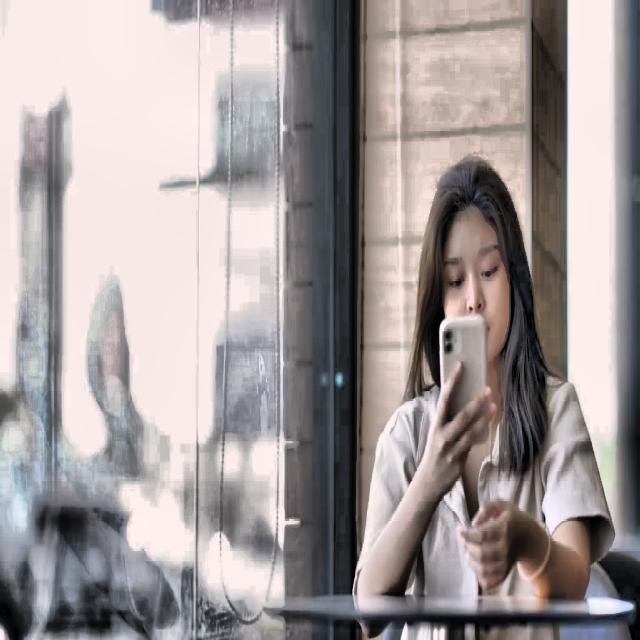Phone: (438, 310, 492, 448)
